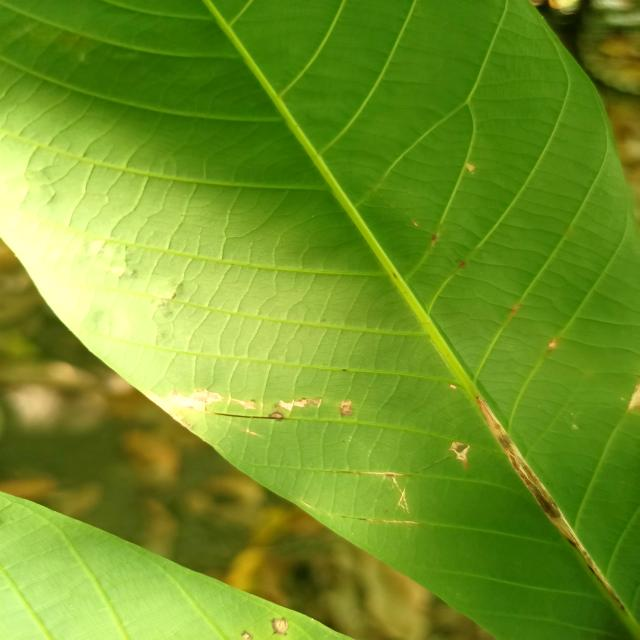Colletotrichum: (269, 412, 283, 419)
Corynespora: (213, 411, 283, 421)
Leaf-Blight: (144, 390, 222, 427), (449, 442, 470, 468), (279, 398, 321, 408), (228, 396, 256, 408), (628, 382, 640, 410), (272, 618, 288, 636), (340, 401, 352, 416)
